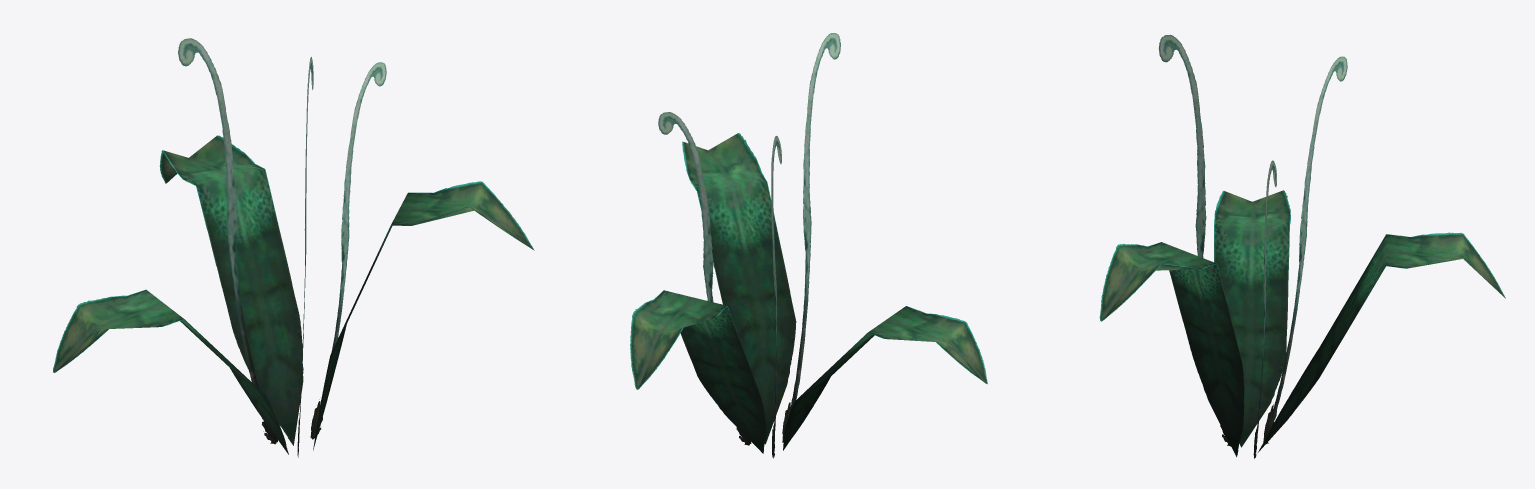
Rendered from leaf_dath_rinor_l1.fbx.
3 renders of one model, left to right at view 1: azimuth 30°, elevation 25°; view 2: azimuth 150°, elevation 25°; view 3: azimuth 270°, elevation 25°, orthographic. The views are drawn at different scales.
Visible parts, largest first — view 1: mesh_node; view 2: mesh_node; view 3: mesh_node.
Boxes of the visible parts, box(x1,y1,x2,y2) form: mesh_node: box(53, 38, 534, 457); mesh_node: box(630, 33, 987, 458); mesh_node: box(1099, 34, 1505, 458).
Size of the model in its own units: 1.88 by 1.84 by 1.77.
